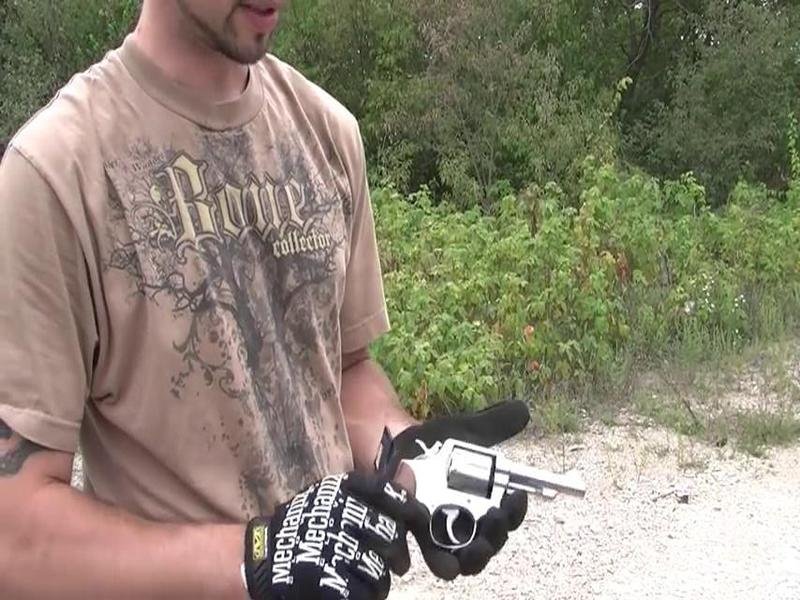Revolver: (383, 418, 590, 572)
